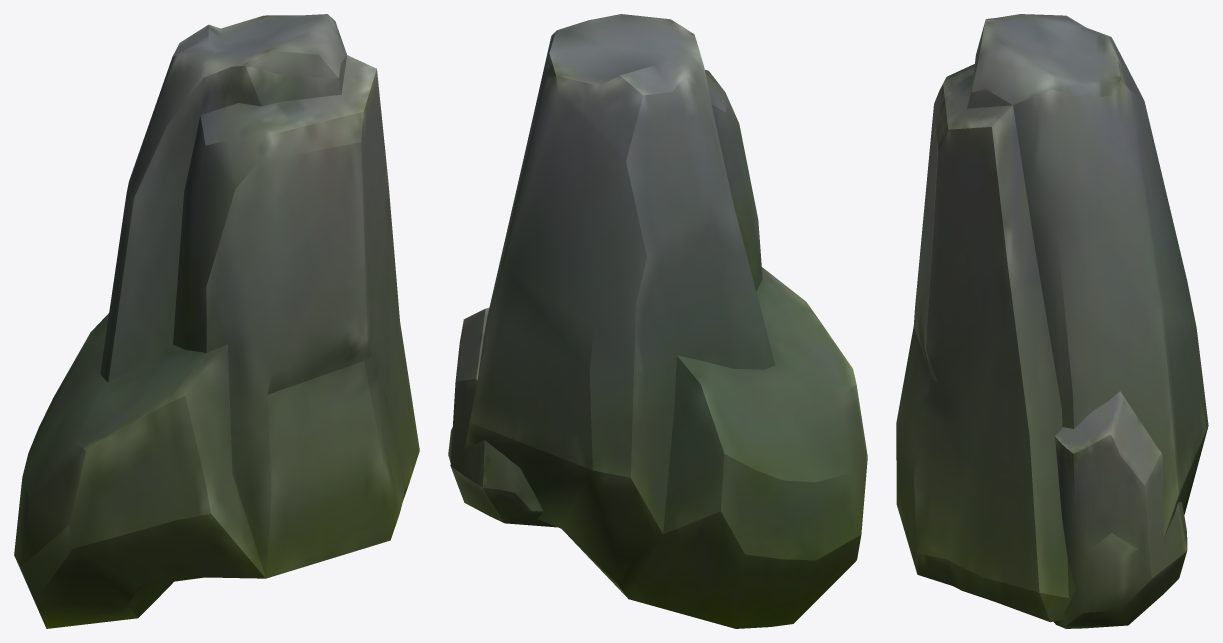
Rendered from slab.glb.
3 renders of one model, left to right at view 1: azimuth 30°, elevation 25°; view 2: azimuth 150°, elevation 25°; view 3: azimuth 270°, elevation 25°, orthographic. The views are drawn at different scales.
Visible parts, largest first — view 1: Rock_Medium_1.001; view 2: Rock_Medium_1.001; view 3: Rock_Medium_1.001.
Boxes of the visible parts, x1,y1,x2,y2 form: Rock_Medium_1.001: (14, 14, 419, 628); Rock_Medium_1.001: (448, 14, 867, 628); Rock_Medium_1.001: (896, 14, 1208, 628).
Size of the model in its own units: 3.1 by 4.2 by 2.
2 materials, 2 textured.
